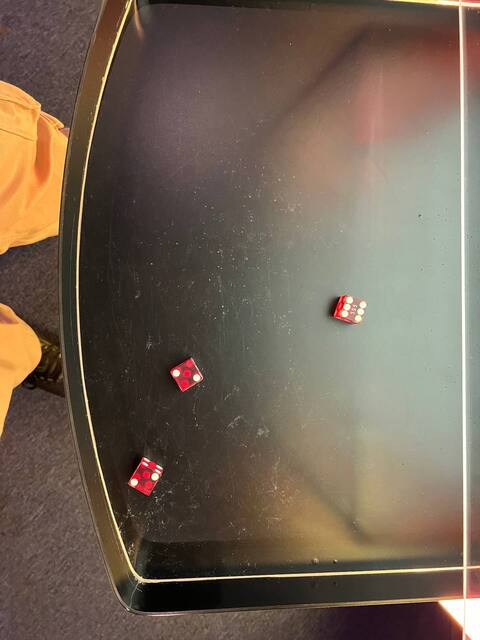six: (336, 292, 370, 327)
two: (168, 359, 207, 397), (126, 469, 161, 499)
